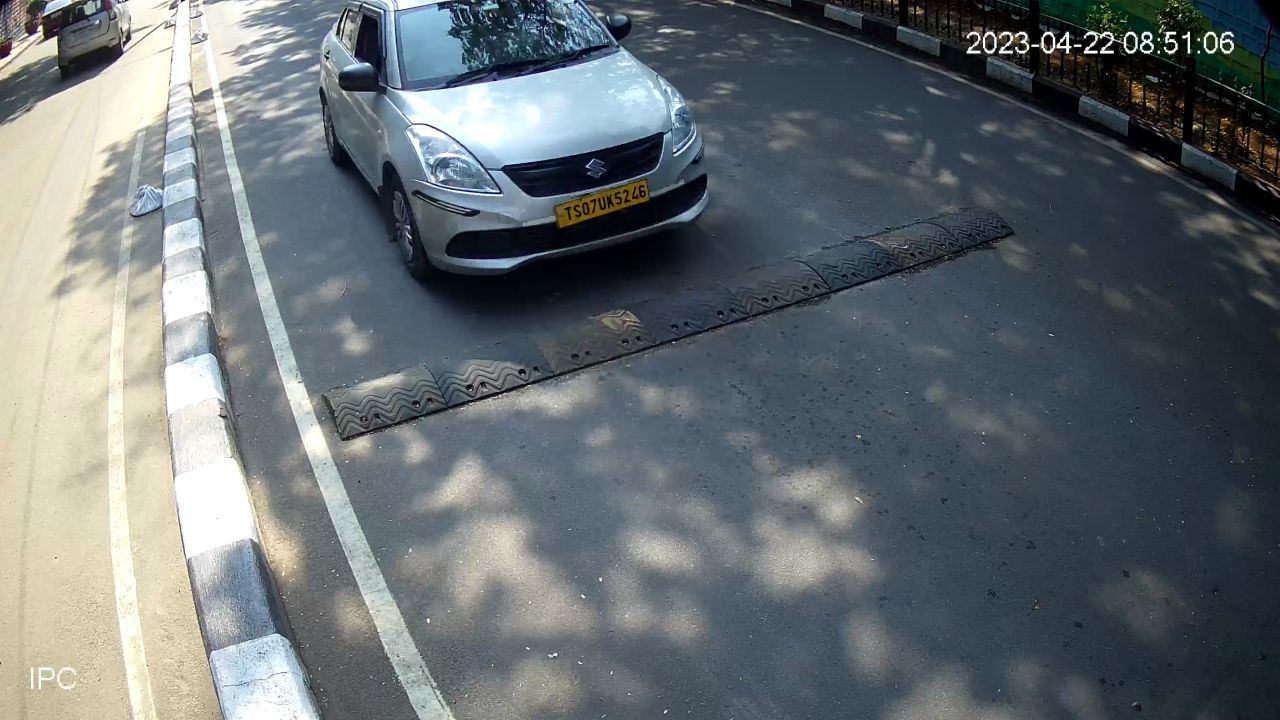license_plate: (554, 170, 652, 233)
